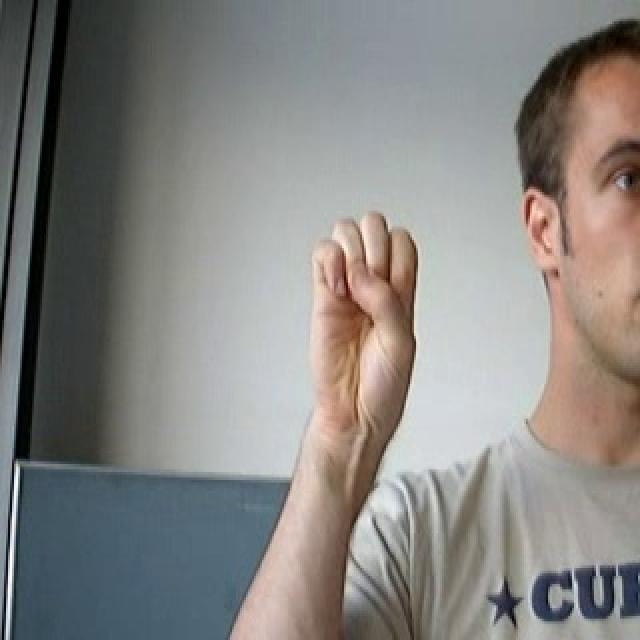E: (295, 197, 437, 453)
